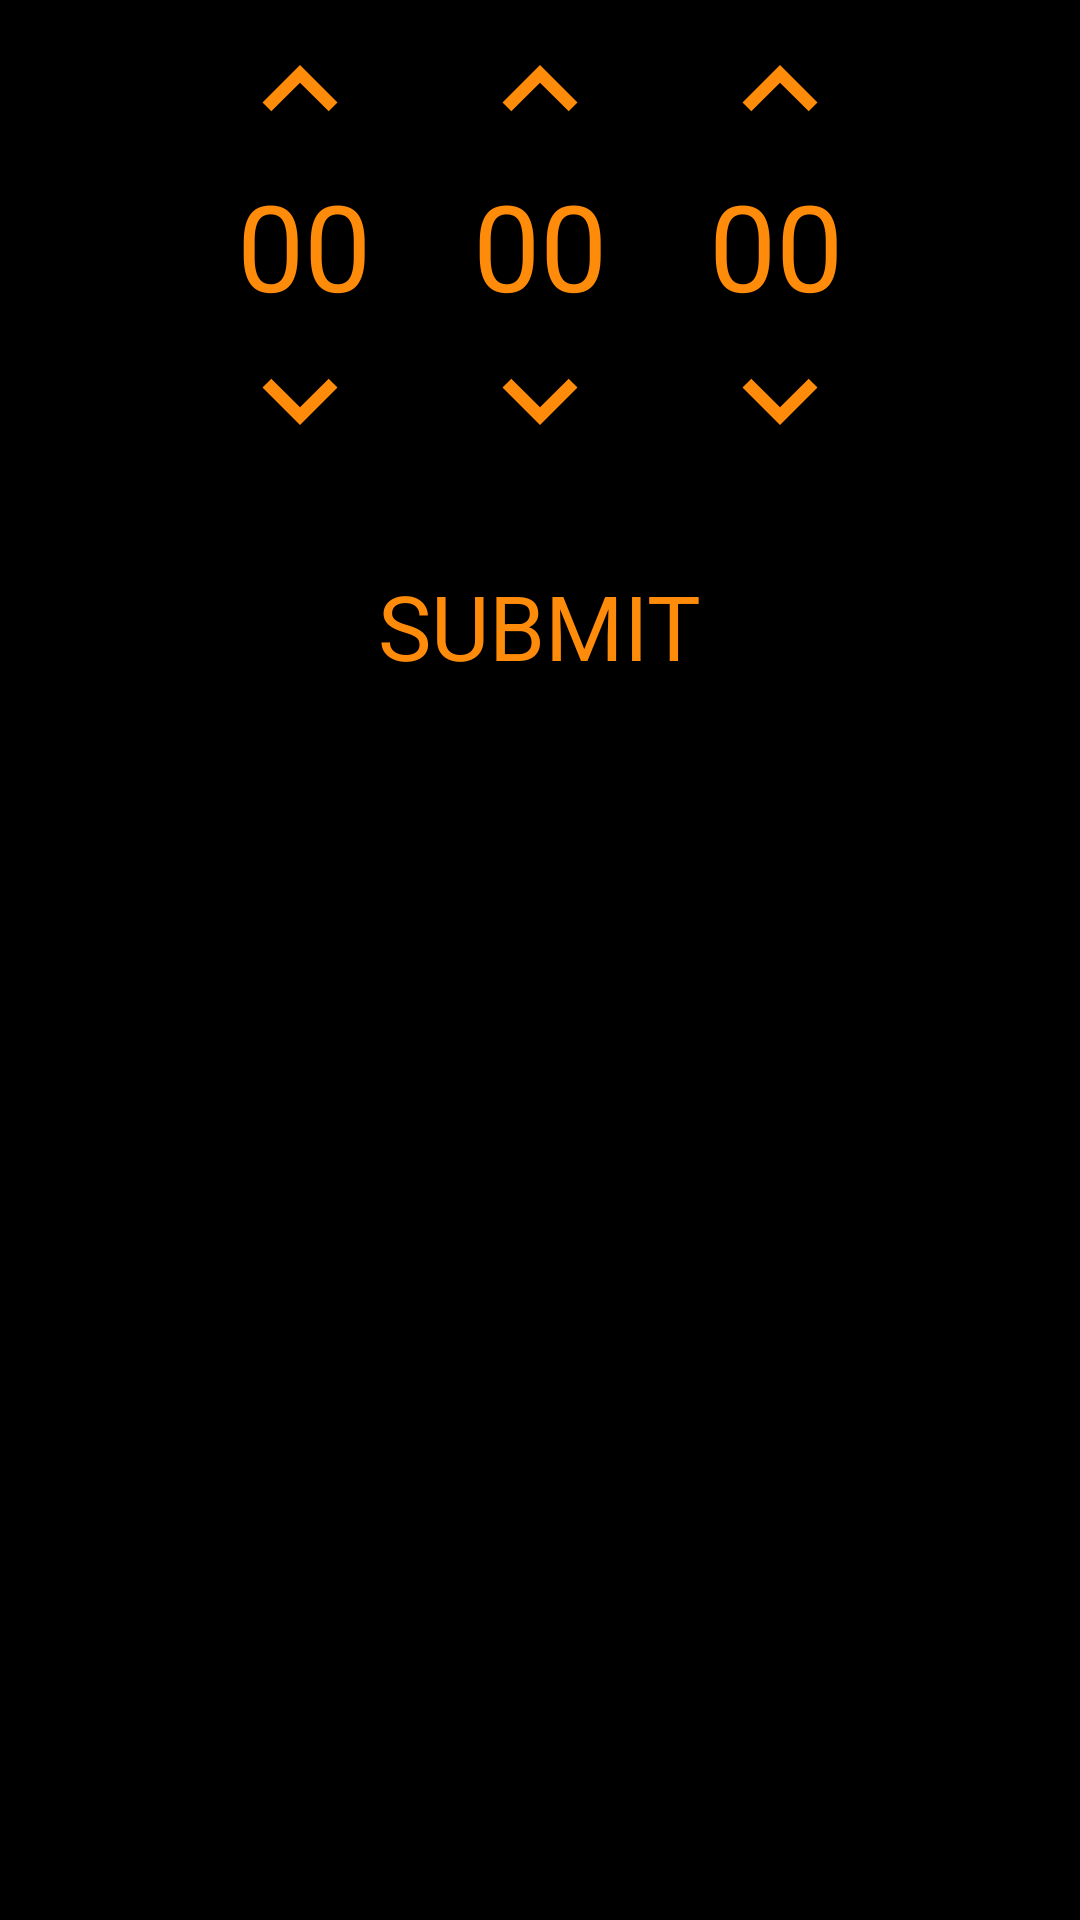

Named icons in this screenshot (1080 x 1920) and their centers, (x,y):
keyboard arrow down: (300,402), (540,402), (780,402)
keyboard arrow up: (300,88), (540,88), (780,88)
